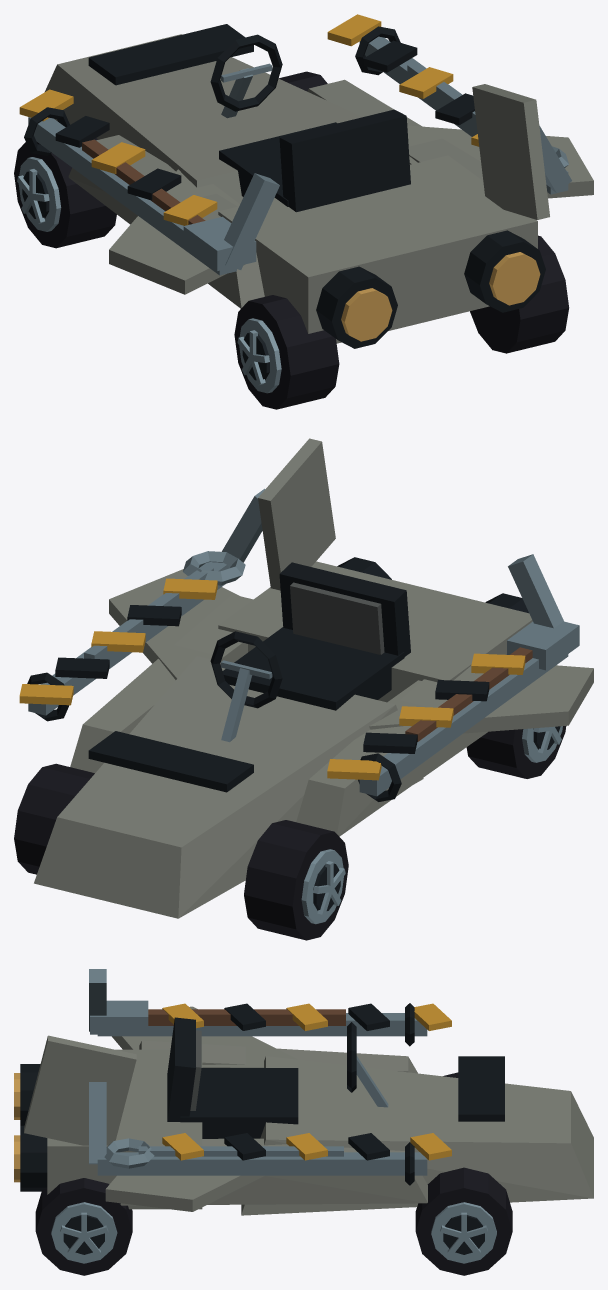
The model's file is kart.glb.
The picture shows the model from 3 angles, top to bottom: view 1: azimuth 30°, elevation 25°; view 2: azimuth 150°, elevation 25°; view 3: azimuth 270°, elevation 25°; orthographic projection. The views are drawn at different scales.
Visible parts, largest first — view 1: identity-shuttle-shuttle-flight-planform, identity-shuttle-driver-cockpit, identity-shuttle-motif-pipes, identity-shuttle-motif-hazard-stripes, wheel-rear-left, wheel-front-left, wheel-rear-right, identity-shuttle-motif-tools, wheel-front-right; view 2: identity-shuttle-shuttle-flight-planform, identity-shuttle-driver-cockpit, identity-shuttle-motif-pipes, identity-shuttle-motif-hazard-stripes, wheel-front-left, identity-shuttle-motif-tools, wheel-front-right, wheel-rear-left; view 3: identity-shuttle-shuttle-flight-planform, identity-shuttle-motif-pipes, identity-shuttle-driver-cockpit, wheel-front-right, wheel-rear-right, identity-shuttle-motif-hazard-stripes, identity-shuttle-motif-tools.
Boxes of the visible parts, x1=… form: identity-shuttle-shuttle-flight-planform: x1=45, y1=24, x2=593, y2=348; identity-shuttle-driver-cockpit: x1=210, y1=34, x2=410, y2=212; identity-shuttle-motif-pipes: x1=24, y1=26, x2=571, y2=275; identity-shuttle-motif-hazard-stripes: x1=19, y1=14, x2=479, y2=225; wheel-rear-left: x1=234, y1=295, x2=339, y2=409; wheel-front-left: x1=14, y1=138, x2=116, y2=248; wheel-rear-right: x1=470, y1=235, x2=569, y2=353; identity-shuttle-motif-tools: x1=82, y1=63, x2=568, y2=271; wheel-front-right: x1=279, y1=71, x2=327, y2=91; identity-shuttle-shuttle-flight-planform: x1=34, y1=438, x2=593, y2=918; identity-shuttle-driver-cockpit: x1=210, y1=562, x2=410, y2=742; identity-shuttle-motif-pipes: x1=27, y1=488, x2=568, y2=801; identity-shuttle-motif-hazard-stripes: x1=19, y1=578, x2=525, y2=780; wheel-front-left: x1=244, y1=820, x2=348, y2=940; identity-shuttle-motif-tools: x1=84, y1=551, x2=579, y2=741; wheel-front-right: x1=14, y1=763, x2=94, y2=874; wheel-rear-left: x1=466, y1=726, x2=566, y2=778; identity-shuttle-shuttle-flight-planform: x1=14, y1=1006, x2=593, y2=1215; identity-shuttle-motif-pipes: x1=89, y1=969, x2=427, y2=1185; identity-shuttle-driver-cockpit: x1=167, y1=1017, x2=388, y2=1138; wheel-front-right: x1=415, y1=1167, x2=512, y2=1275; wheel-rear-right: x1=35, y1=1178, x2=132, y2=1275; identity-shuttle-motif-hazard-stripes: x1=162, y1=1003, x2=451, y2=1160; identity-shuttle-motif-tools: x1=90, y1=1000, x2=345, y2=1168.
Bounding box in the file's own units: 2.36 × 1.28 × 2.99.
